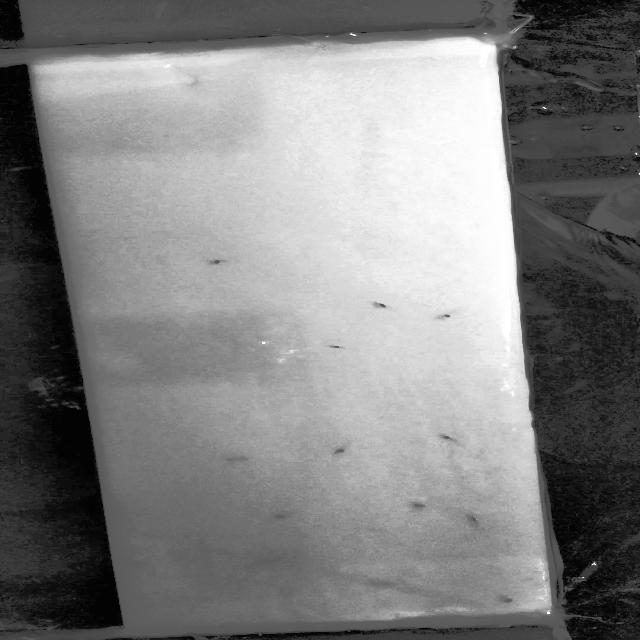shrimp: (263, 506, 301, 527), (489, 596, 528, 609), (464, 514, 498, 527), (368, 298, 395, 314), (317, 341, 349, 353), (438, 432, 467, 445), (329, 444, 357, 457), (403, 501, 436, 512), (431, 310, 460, 322), (204, 257, 231, 268)
